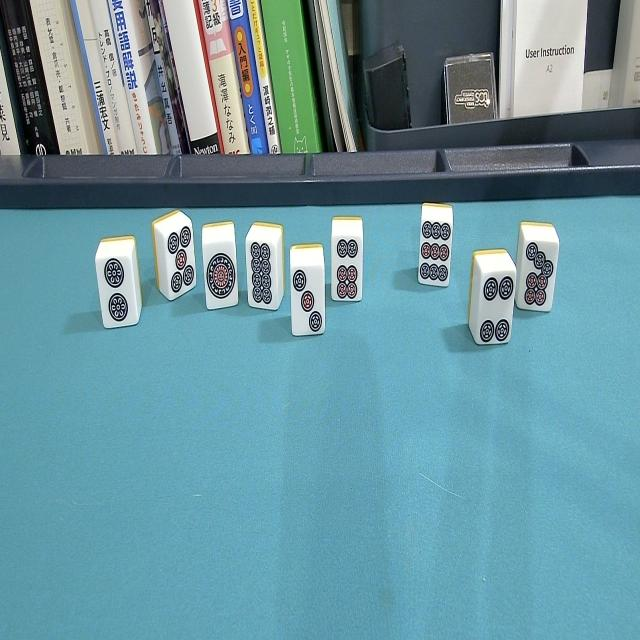1_pin: (202, 223, 238, 316)
2_pin: (94, 237, 142, 337)
3_pin: (288, 244, 328, 346)
4_pin: (467, 249, 519, 351)
5_pin: (151, 209, 199, 303)
6_pin: (330, 213, 366, 307)
7_pin: (516, 223, 560, 321)
8_pin: (245, 223, 285, 315)
9_pin: (416, 199, 456, 294)
